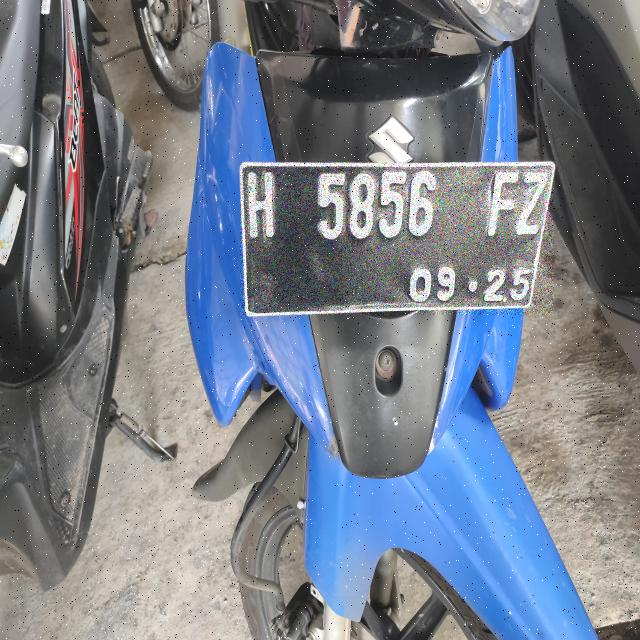plate: (241, 163, 553, 314)
